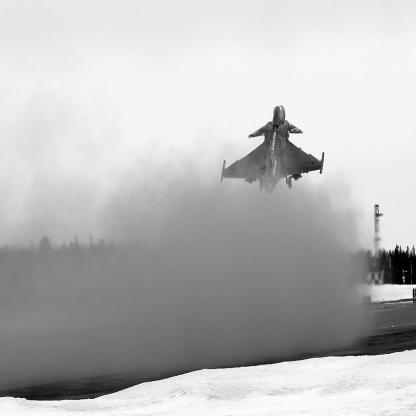JAS39: (221, 103, 326, 195)
